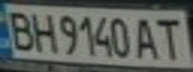0: (109, 13, 133, 60)
1: (75, 12, 96, 56)
4: (90, 12, 115, 57)
9: (54, 11, 78, 55)
A: (133, 14, 160, 61)
B: (3, 7, 36, 52)
H: (27, 9, 57, 53)
T: (154, 14, 187, 61)
